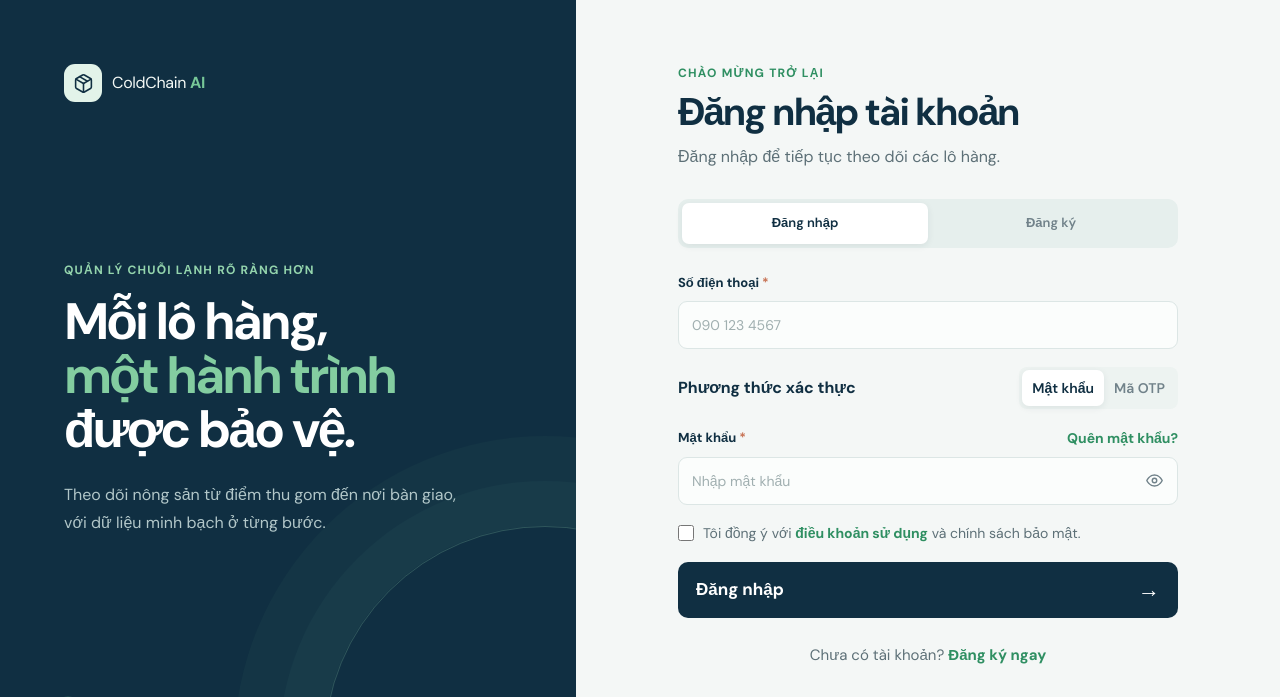
AuthPage › switches between login and registration modes
Expected: the heading "Đăng nhập tài khoản" is shown, [678, 87, 1019, 137]
Click the tab "Đăng ký": point(1051, 224) [928, 203, 1174, 244]
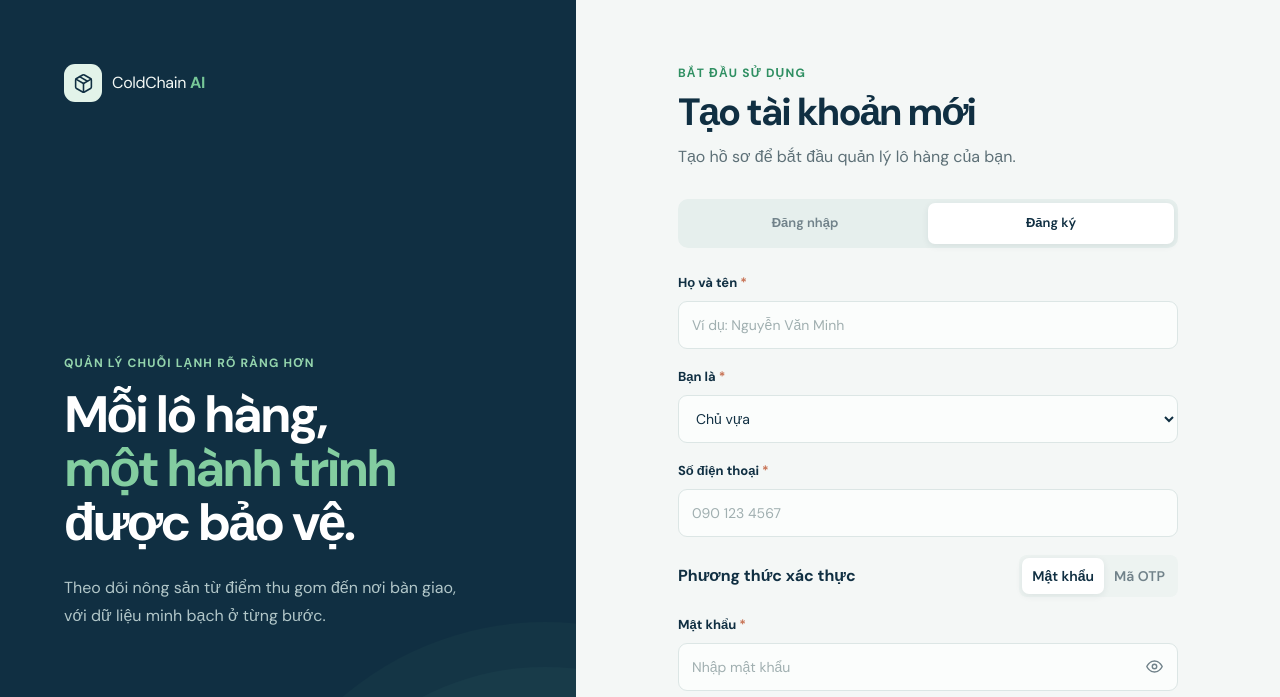
Result: the heading "Tạo tài khoản mới" is shown at [678, 87, 975, 137]
Result: the field labelled "Họ và tên *" is shown at [678, 301, 1178, 349]
